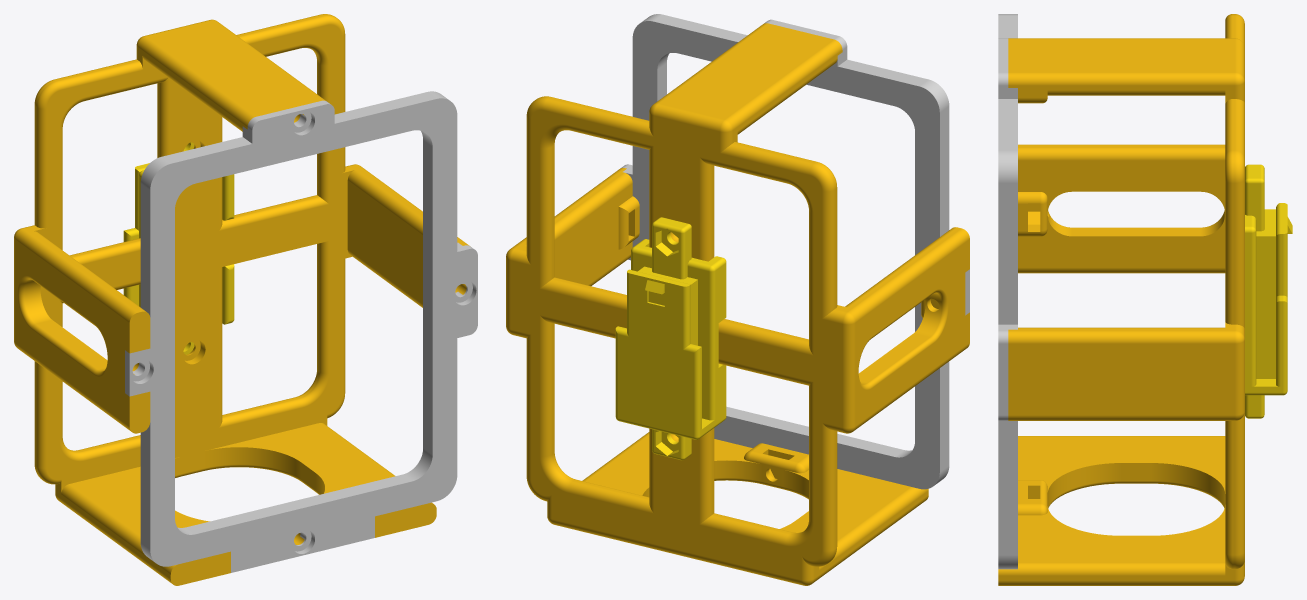
Rendered from jbl_holder.gltf.
3 renders of one model, left to right at view 1: azimuth 30°, elevation 25°; view 2: azimuth 150°, elevation 25°; view 3: azimuth 270°, elevation 25°, orthographic. The views are drawn at different scales.
Parts seen in each view (by area): view 1: Part 1, Part 2, Part 3; view 2: Part 1, Part 2, Part 3; view 3: Part 1, Part 2, Part 3.
Part boxes in pixels (box(x1,y1,x2,y2)): Part 1: box(14, 14, 469, 585); Part 2: box(125, 91, 477, 572); Part 3: box(123, 142, 234, 354); Part 1: box(506, 23, 969, 585); Part 2: box(620, 14, 969, 489); Part 3: box(615, 217, 726, 460); Part 1: box(998, 14, 1244, 585); Part 2: box(998, 14, 1017, 569); Part 3: box(1245, 164, 1292, 418).
Bounding box in the file's own units: 0.0846 × 0.1034 × 0.0598.
